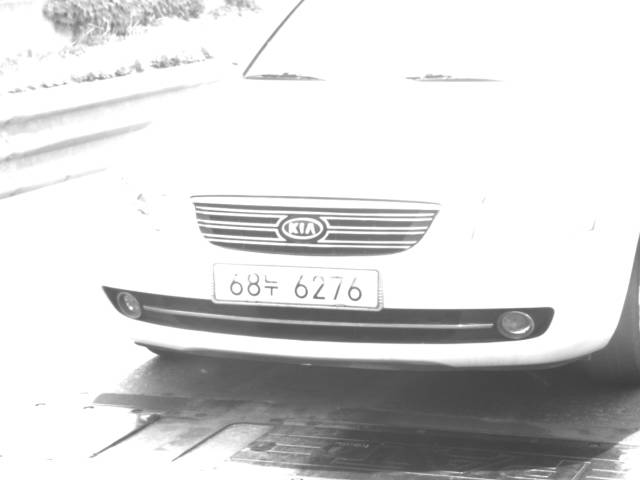car: (92, 1, 639, 391)
plate: (210, 259, 384, 313)
